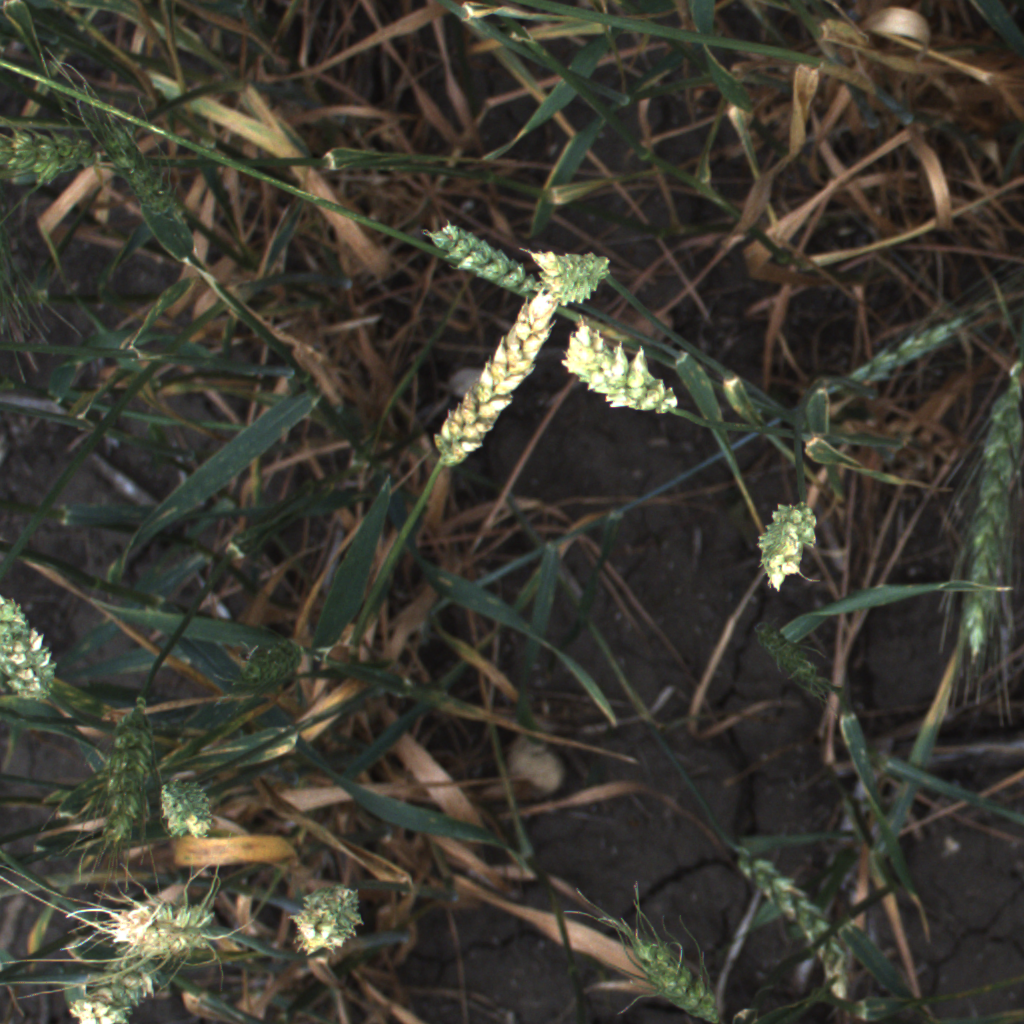wheat_head: (428, 278, 565, 475), (731, 832, 874, 1001), (946, 361, 1024, 669), (408, 210, 574, 316), (798, 311, 976, 408), (588, 919, 724, 1020), (554, 319, 697, 415), (734, 488, 832, 597), (95, 691, 159, 848), (0, 579, 69, 719), (43, 956, 182, 1024), (97, 892, 225, 962), (0, 110, 91, 200), (278, 883, 371, 968), (519, 235, 622, 308), (161, 761, 230, 849)
